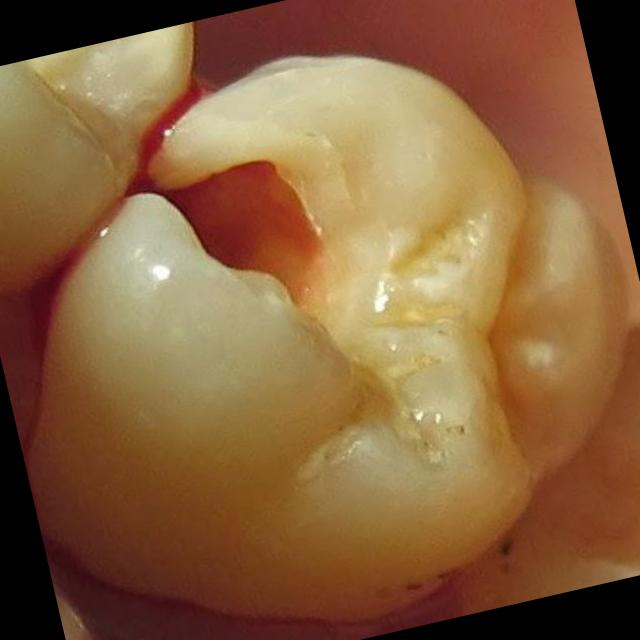Caries: (24, 50, 632, 623), (452, 268, 640, 617), (0, 22, 196, 297), (163, 158, 318, 301), (439, 567, 457, 578), (499, 537, 511, 553), (406, 582, 421, 588)
Cavity: (128, 107, 392, 338)
